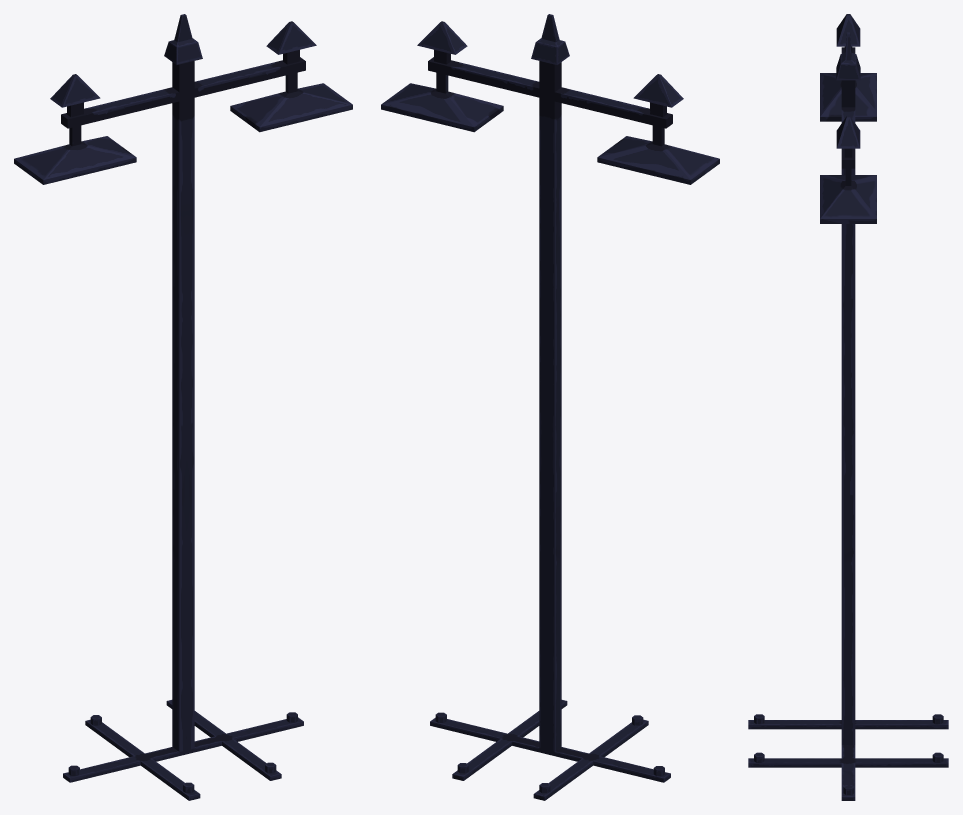
File: Lights.fbx
The picture shows the model from 3 angles, left to right: view 1: azimuth 30°, elevation 25°; view 2: azimuth 150°, elevation 25°; view 3: azimuth 270°, elevation 25°; orthographic projection. The views are drawn at different scales.
Visible parts, largest first — view 1: Cube; view 2: Cube; view 3: Cube.
Part boxes in pixels (x1,y1,x2,y2): Cube: (14, 14, 352, 800); Cube: (381, 14, 719, 800); Cube: (748, 14, 948, 800).
Bounding box in the file's own units: 4507 × 10247 × 2613.
